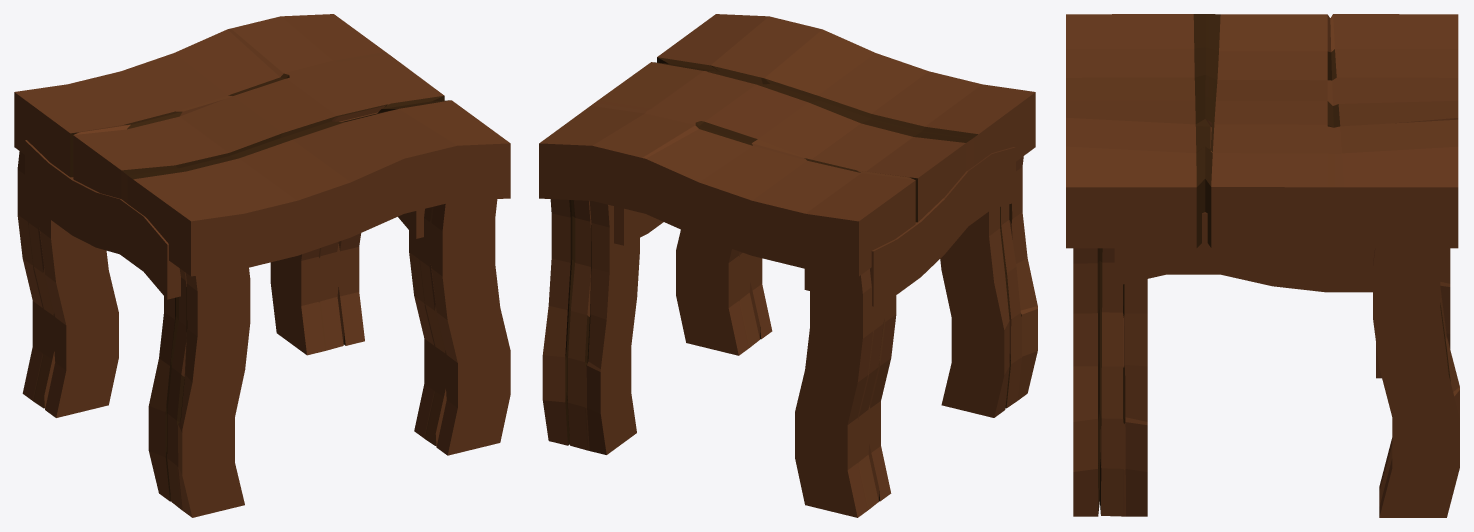
File: Stool.fbx
The picture shows the model from 3 angles, left to right: view 1: azimuth 30°, elevation 25°; view 2: azimuth 150°, elevation 25°; view 3: azimuth 270°, elevation 25°; orthographic projection. The views are drawn at different scales.
Parts seen in each view (by area): view 1: Cube.011; view 2: Cube.011; view 3: Cube.011.
Part boxes in pixels (<box>): Cube.011: <box>14,14,510,517</box>; Cube.011: <box>539,14,1037,517</box>; Cube.011: <box>1066,14,1459,517</box>.
Size of the model in its own units: 183 by 165 by 171.
